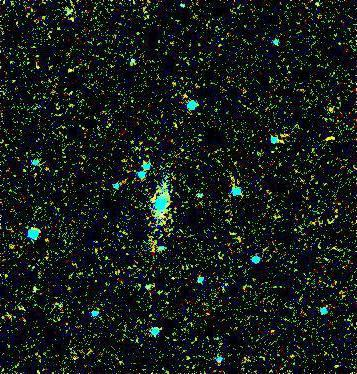star: (318, 93, 348, 123)
